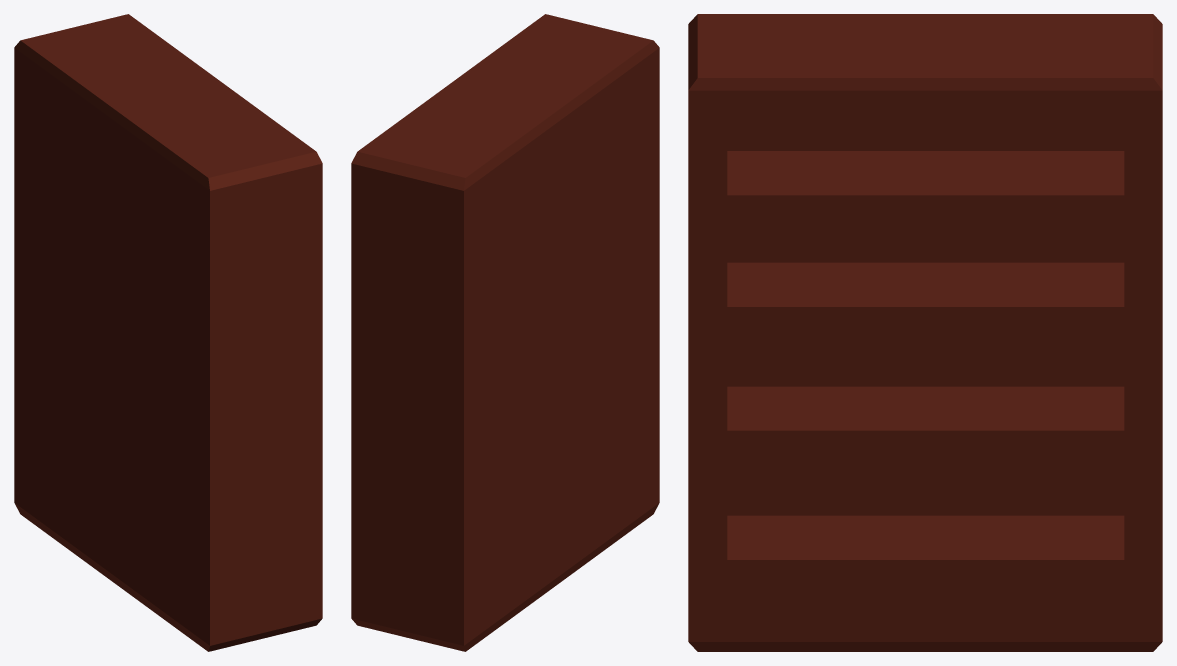
The model's file is bookshelfEnvironmental.fbx.
3 renders of one model, left to right at view 1: azimuth 30°, elevation 25°; view 2: azimuth 150°, elevation 25°; view 3: azimuth 270°, elevation 25°, orthographic. The views are drawn at different scales.
Visible parts, largest first — view 1: Cube; view 2: Cube; view 3: Cube.
Part boxes in pixels (box(x1,y1,x2,y2)): Cube: box(14, 14, 322, 651); Cube: box(351, 14, 659, 651); Cube: box(688, 14, 1162, 651).
Bounding box in the file's own units: 200 × 804 × 602.
